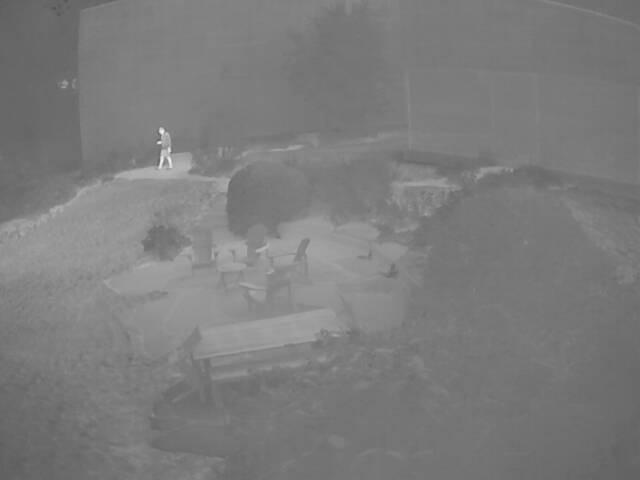person: (158, 128, 174, 172)
